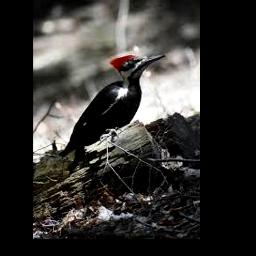Woodpecker: (59, 52, 165, 170)
